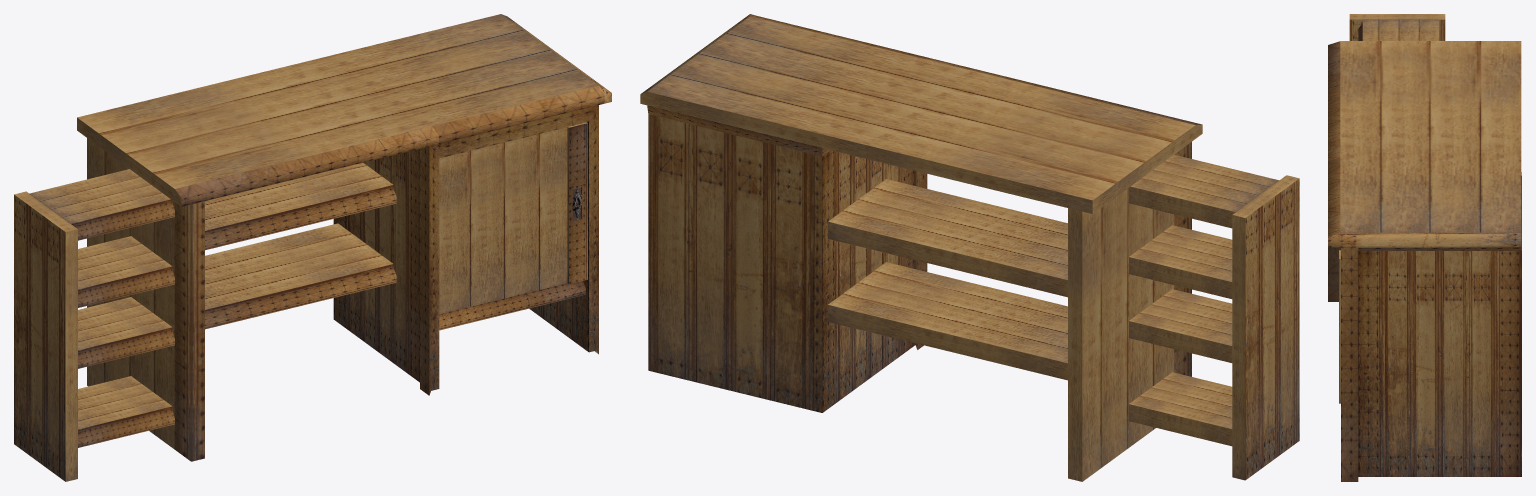
Rendered from TableB.dae.
3 renders of one model, left to right at view 1: azimuth 30°, elevation 25°; view 2: azimuth 150°, elevation 25°; view 3: azimuth 270°, elevation 25°, orthographic. The views are drawn at different scales.
Parts seen in each view (by area): view 1: meshU3D; view 2: meshU3D; view 3: meshU3D.
Part boxes in pixels (x1,y1,x2,y2): meshU3D: (14,14,611,481); meshU3D: (640,14,1299,481); meshU3D: (1328,14,1521,481).
Bounding box in the file's own units: 70.45 × 34.16 × 23.9.
